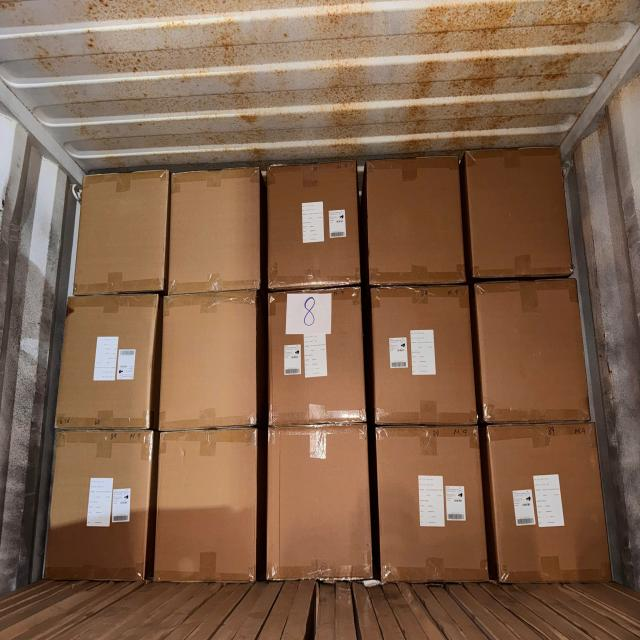Carton: (494, 426, 613, 586), (378, 424, 487, 582), (476, 278, 589, 422), (46, 427, 152, 580), (159, 429, 258, 586), (276, 424, 370, 580), (374, 286, 476, 426), (466, 148, 570, 279), (59, 295, 158, 431), (163, 292, 260, 429), (267, 290, 362, 425), (367, 158, 463, 288), (266, 162, 358, 287), (171, 167, 262, 292), (76, 171, 169, 293)
